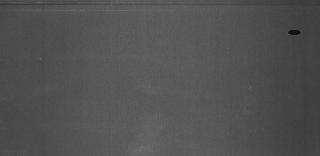punching hole: (286, 27, 304, 36)
welding line: (1, 1, 318, 11)
